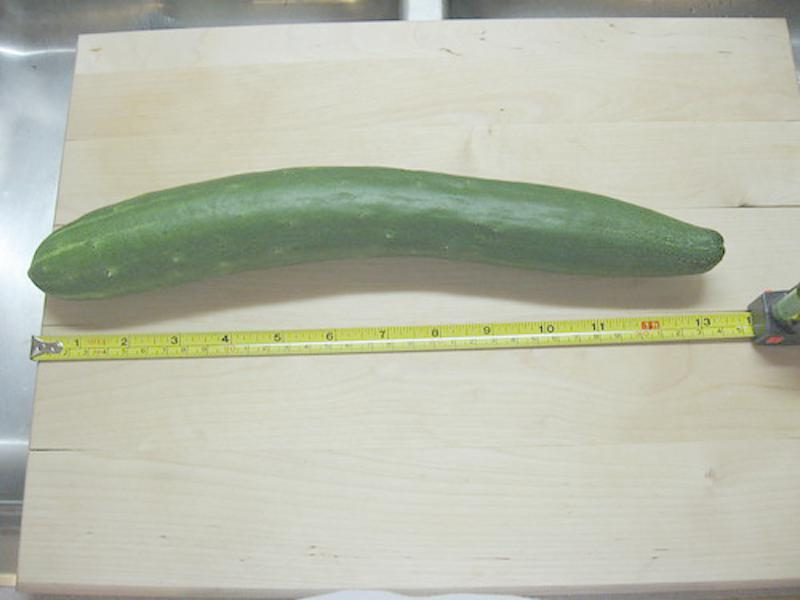Cucumber: (27, 166, 725, 301)
